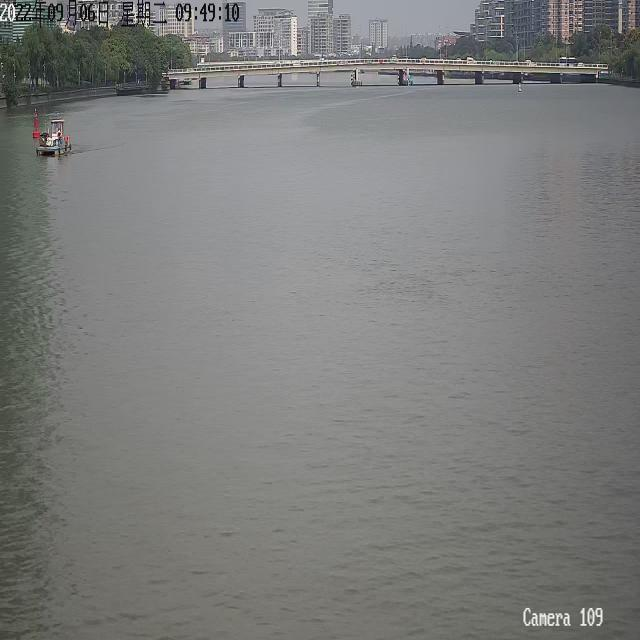ship: (35, 118, 71, 154)
